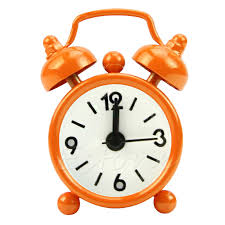alarm_clock: (34, 7, 202, 215), (34, 7, 187, 215), (40, 7, 187, 215)
